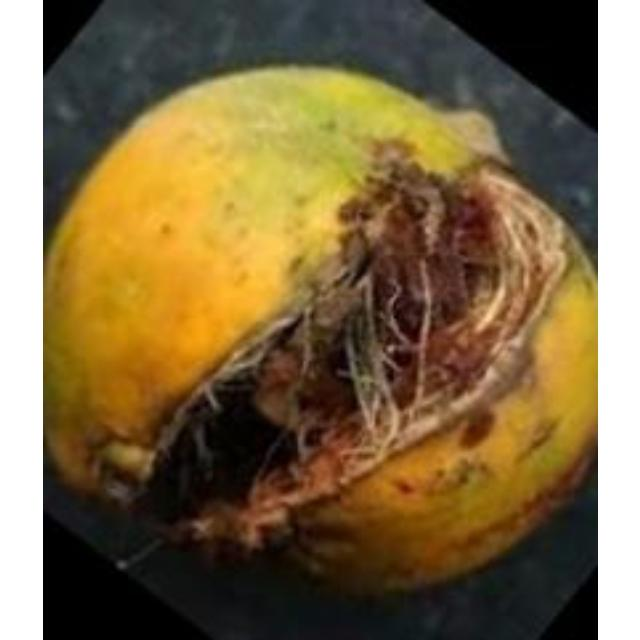damaged: (42, 61, 594, 611)
